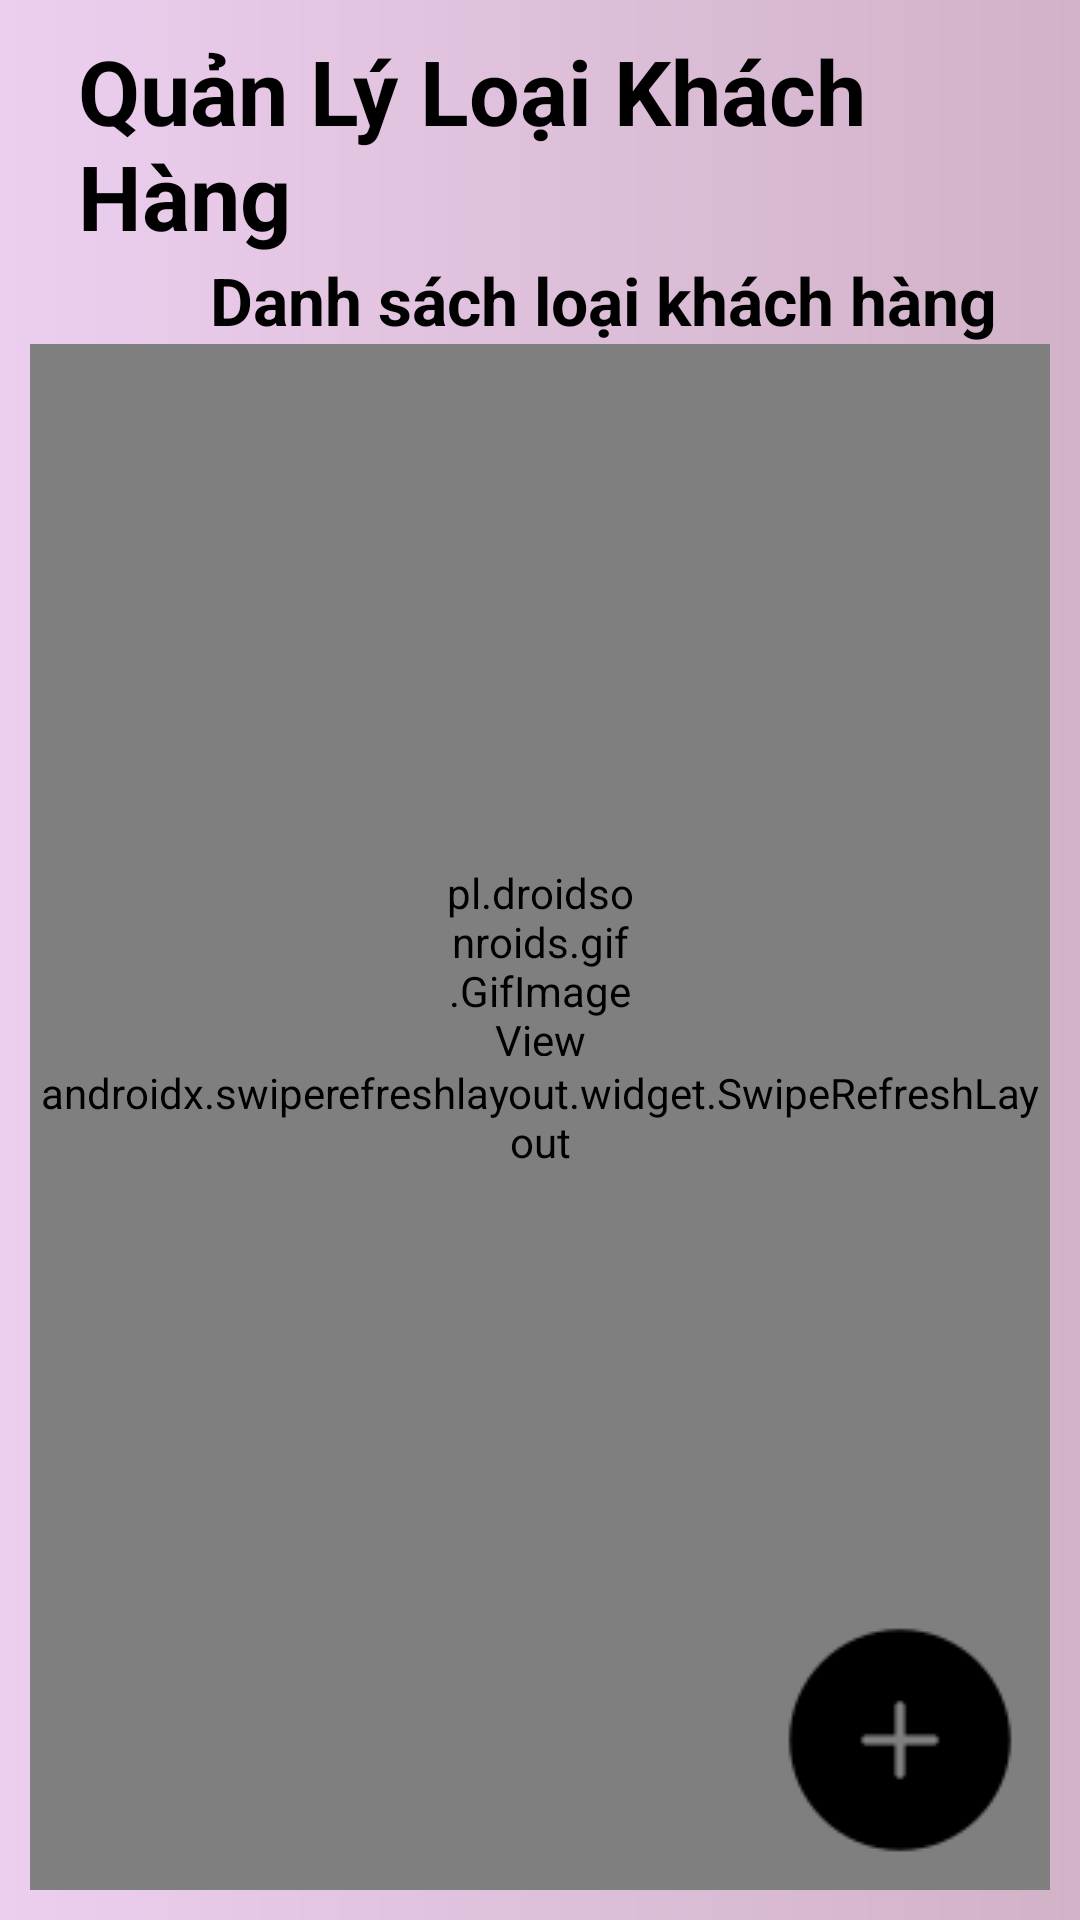

Icon click points for this 1080w x 1920h phone screenshot, format point (x, y):
add: point (900, 1740)
